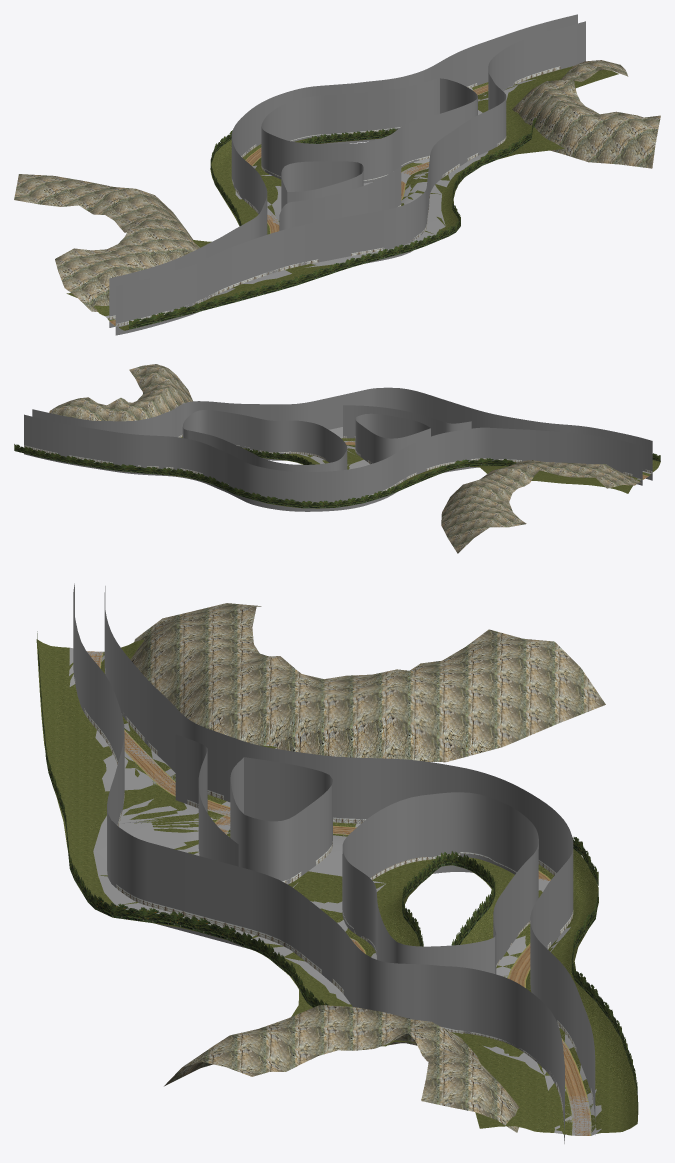
File: chall_appleAcres.FBX
The picture shows the model from 3 angles, top to bottom: view 1: azimuth 30°, elevation 25°; view 2: azimuth 150°, elevation 25°; view 3: azimuth 270°, elevation 25°; orthographic projection. The views are drawn at different scales.
Visible parts, largest first — view 1: coll_borders, rocks, grass, borders, coll_ground, fences, road; view 2: coll_borders, rocks, borders, grass, fences, coll_ground; view 3: coll_borders, rocks, grass, coll_ground, borders, road, fences.
Boxes of the visible parts, left/top/right/bottom form: coll_borders: left=109, top=14, right=585, bottom=335; rocks: left=14, top=60, right=660, bottom=311; grass: left=66, top=66, right=618, bottom=330; borders: left=129, top=118, right=536, bottom=329; coll_ground: left=105, top=79, right=535, bottom=327; fences: left=109, top=66, right=560, bottom=326; road: left=109, top=84, right=488, bottom=325; coll_borders: left=24, top=387, right=652, bottom=511; rocks: left=49, top=364, right=641, bottom=553; borders: left=14, top=444, right=660, bottom=508; grass: left=32, top=437, right=660, bottom=508; fences: left=24, top=434, right=652, bottom=503; coll_ground: left=45, top=427, right=652, bottom=487; coll_borders: left=73, top=583, right=595, bottom=1143; rocks: left=130, top=603, right=605, bottom=1132; grass: left=36, top=639, right=638, bottom=1135; coll_ground: left=69, top=648, right=601, bottom=1135; borders: left=37, top=631, right=637, bottom=1115; road: left=87, top=651, right=591, bottom=1135; fences: left=75, top=668, right=595, bottom=1128.
Size of the model in its own units: 1235 by 92.75 by 625.
6 materials, 5 textured.
